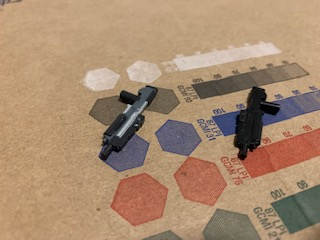rifle: (93, 80, 159, 166), (233, 85, 282, 164)
